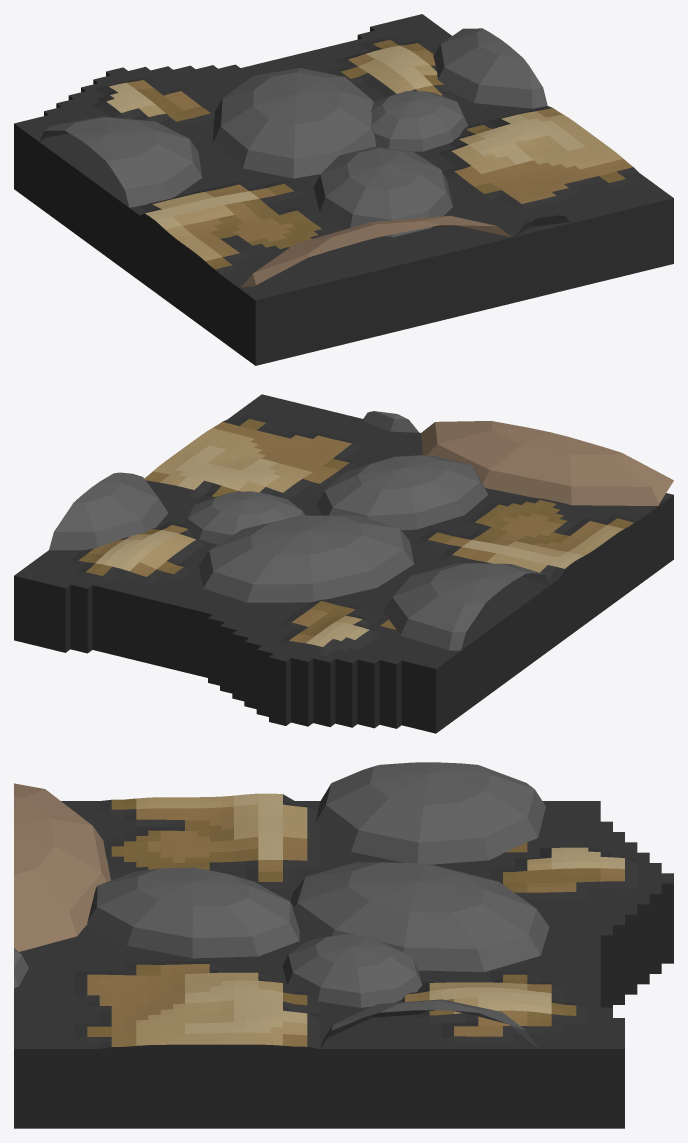
3 renders of one model, top to bottom at view 1: azimuth 30°, elevation 25°; view 2: azimuth 150°, elevation 25°; view 3: azimuth 270°, elevation 25°, orthographic. The views are drawn at different scales.
Visible parts, largest first — view 1: shapesz-t121; view 2: shapesz-t121; view 3: shapesz-t121.
Part boxes in pixels (x1,y1,x2,y2): shapesz-t121: [14, 14, 673, 365]; shapesz-t121: [14, 394, 673, 733]; shapesz-t121: [14, 762, 673, 1128].
Size of the model in its own units: 2 by 0.458 by 2.25.
